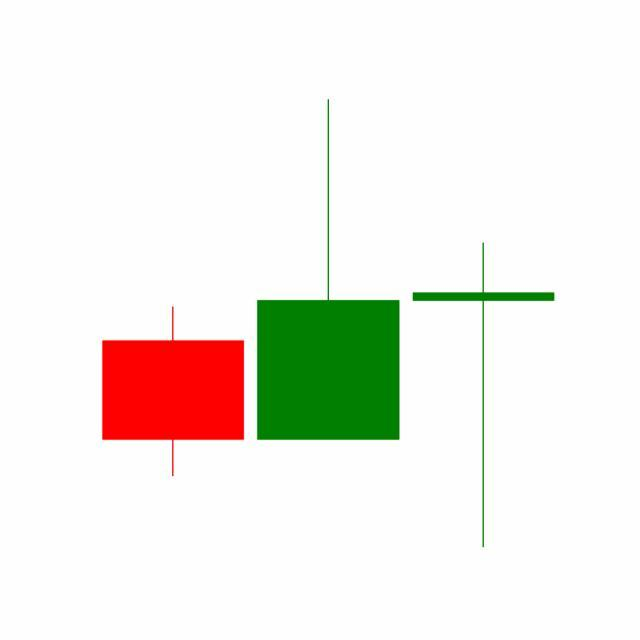Spinning Top: (406, 240, 562, 552)
